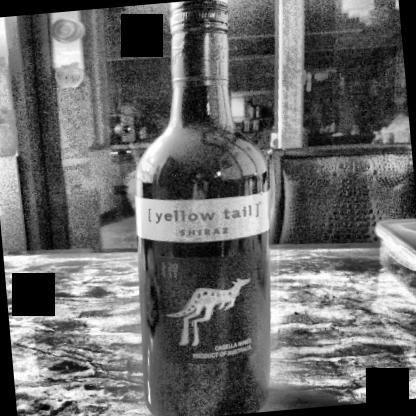yellowtail: (137, 183, 277, 380)
